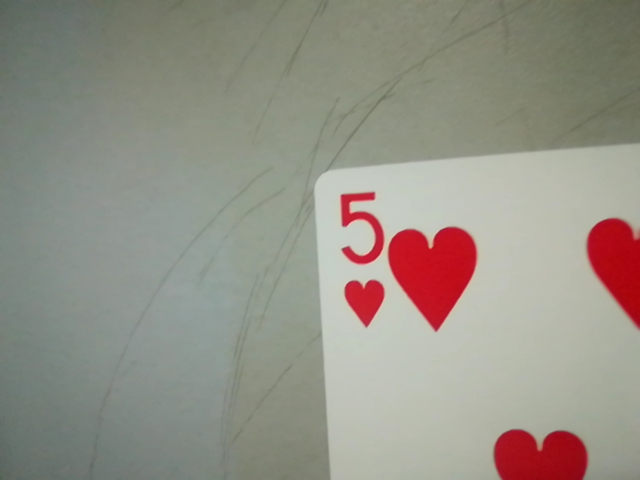hx 5: (325, 179, 393, 334)
